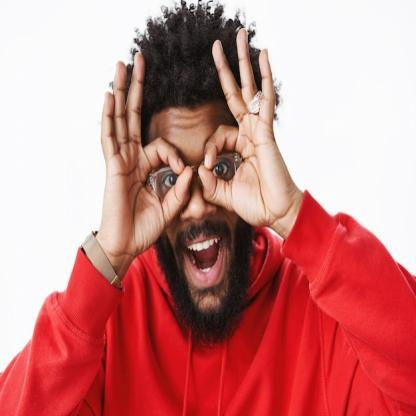ok: (92, 44, 192, 258), (198, 26, 292, 224)
